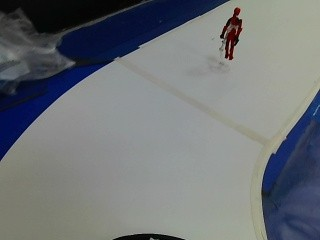pedestrian: (218, 4, 245, 60)
